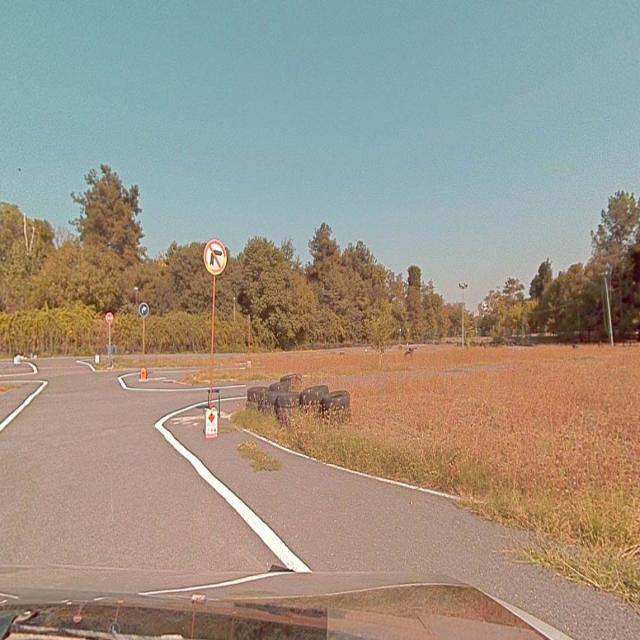girisyok: (106, 313, 112, 324)
sag: (140, 303, 148, 316)
sagadonulmez: (205, 239, 225, 272)
